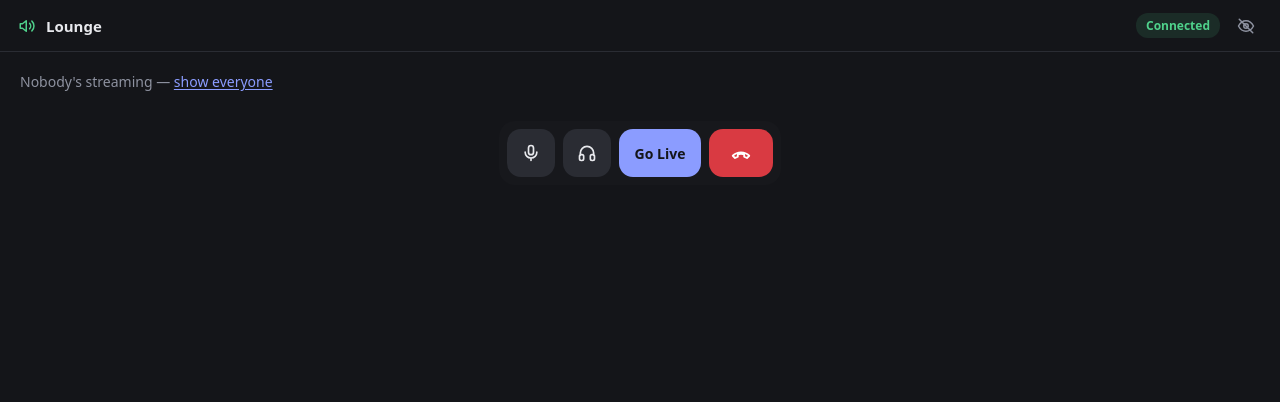
Test case: everyone toggle › empty_state_button_shows_everyone_again
Click the button "show everyone": (223, 82) [174, 72, 273, 91]
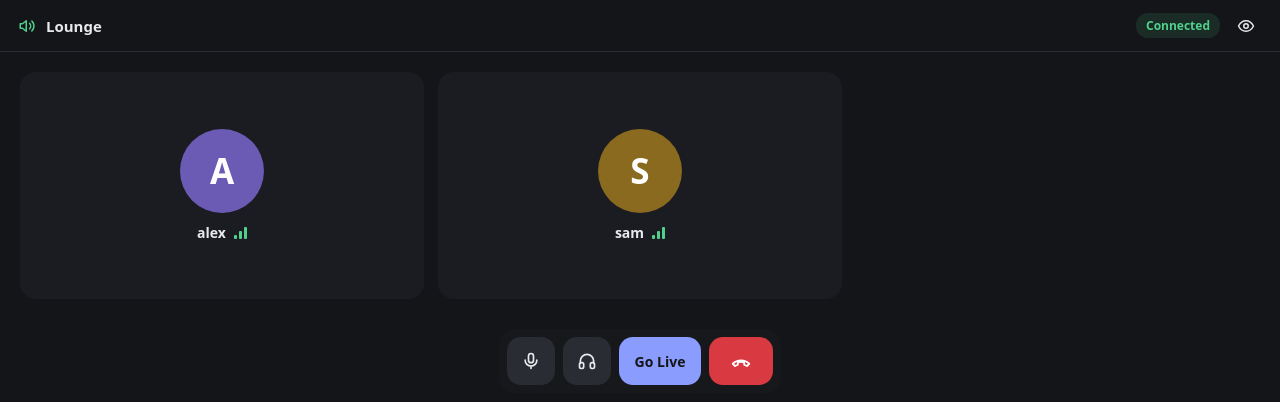
Expected: the text "Nobody's streaming" is gone
